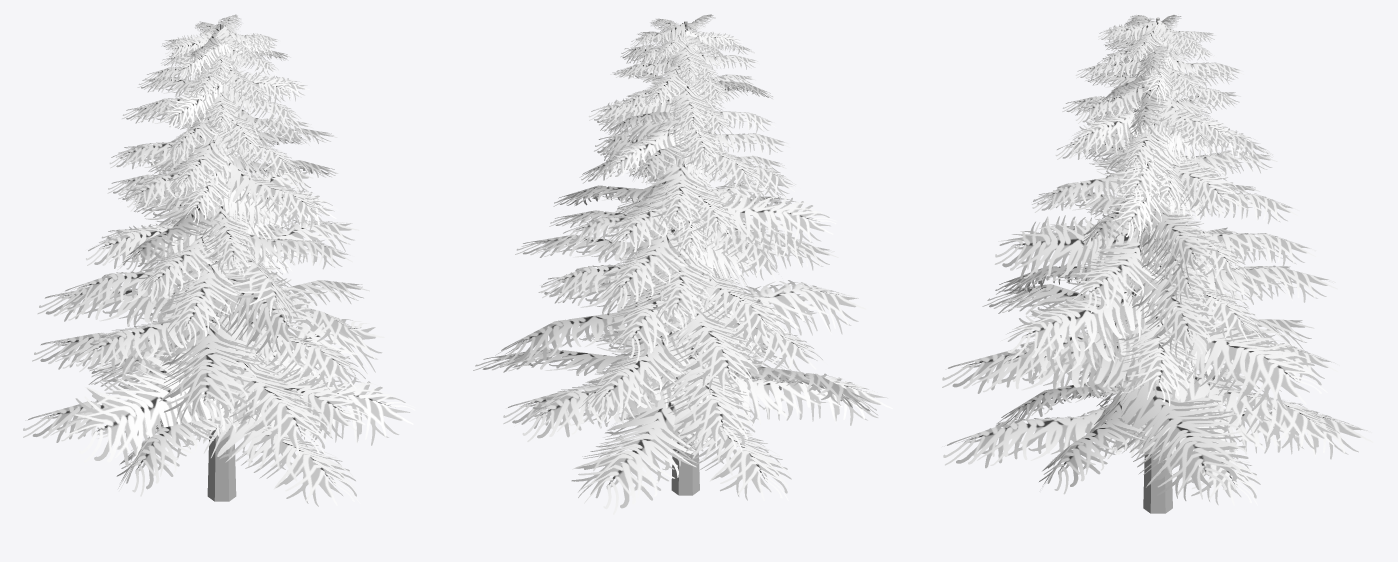
Rendered from Tree1.fbx.
The picture shows the model from 3 angles, left to right: view 1: azimuth 30°, elevation 25°; view 2: azimuth 150°, elevation 25°; view 3: azimuth 270°, elevation 25°; orthographic projection. The views are drawn at different scales.
Visible parts, largest first — view 1: Tree1; view 2: Tree1; view 3: Tree1.
Boxes of the visible parts, x1,y1,x2,y2 form: Tree1: (23,14,415,506); Tree1: (473,14,892,514); Tree1: (942,15,1373,513).
Bounding box in the file's own units: 5.45 × 6.39 × 5.36.
Materials: 2 (1 with a texture image).
